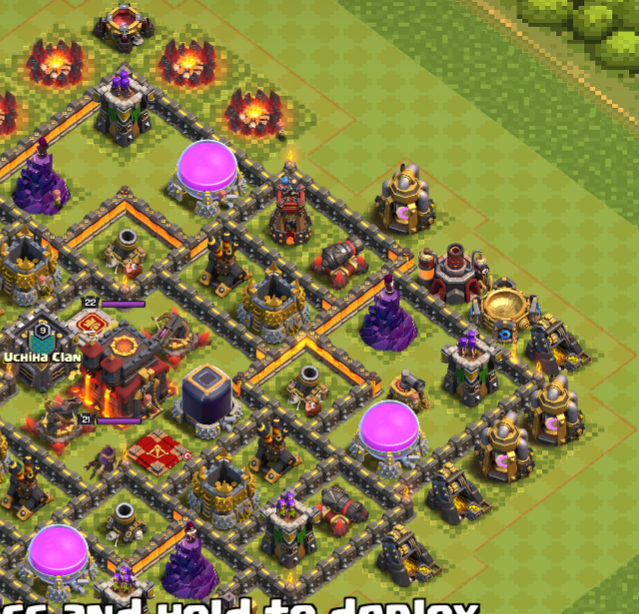elixir_colector: (523, 378, 597, 455), (367, 160, 440, 235), (464, 409, 533, 480)
gold_mine: (364, 515, 448, 596), (520, 304, 595, 374), (425, 460, 492, 534)
